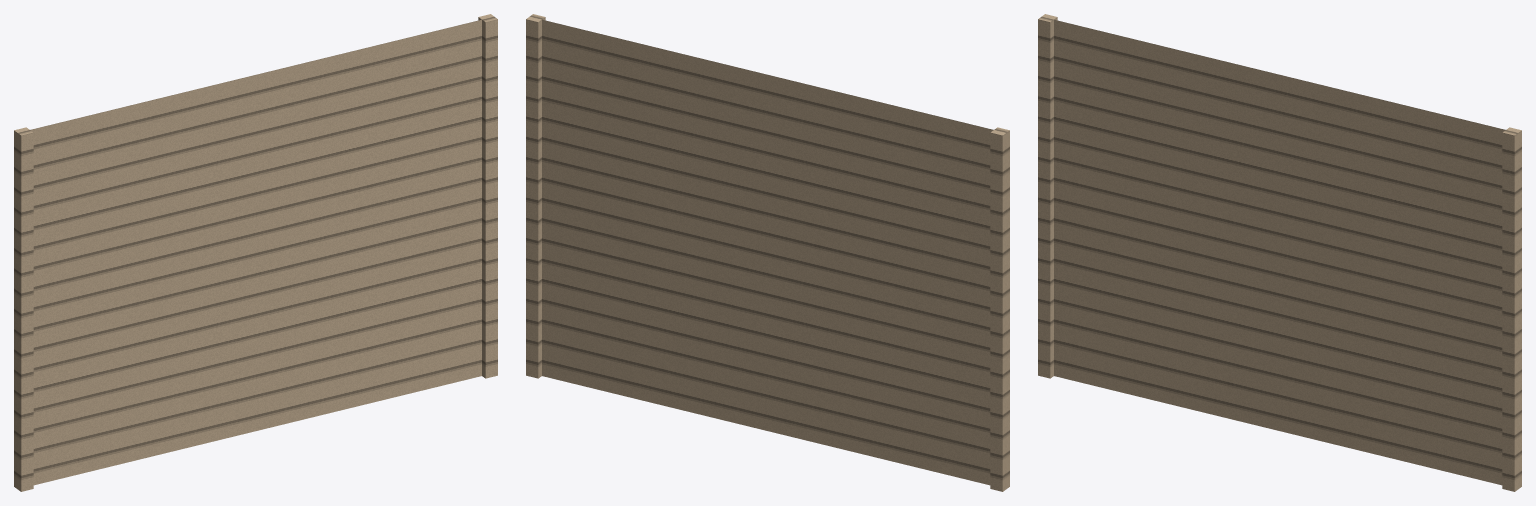
File: fence_deer.glb
3 views of the same model, side by side, from view 1: azimuth 30°, elevation 25°; view 2: azimuth 150°, elevation 25°; view 3: azimuth 330°, elevation 25° (orthographic).
Visible parts, largest first — view 1: fence_deer-col; view 2: fence_deer-col; view 3: fence_deer-col.
Boxes of the visible parts, x1=… form: fence_deer-col: x1=14, y1=14, x2=497, y2=491; fence_deer-col: x1=526, y1=14, x2=1009, y2=491; fence_deer-col: x1=1038, y1=14, x2=1521, y2=491.
Size of the model in its own units: 3.08 by 2.2 by 0.08.
1 material, 1 textured.
